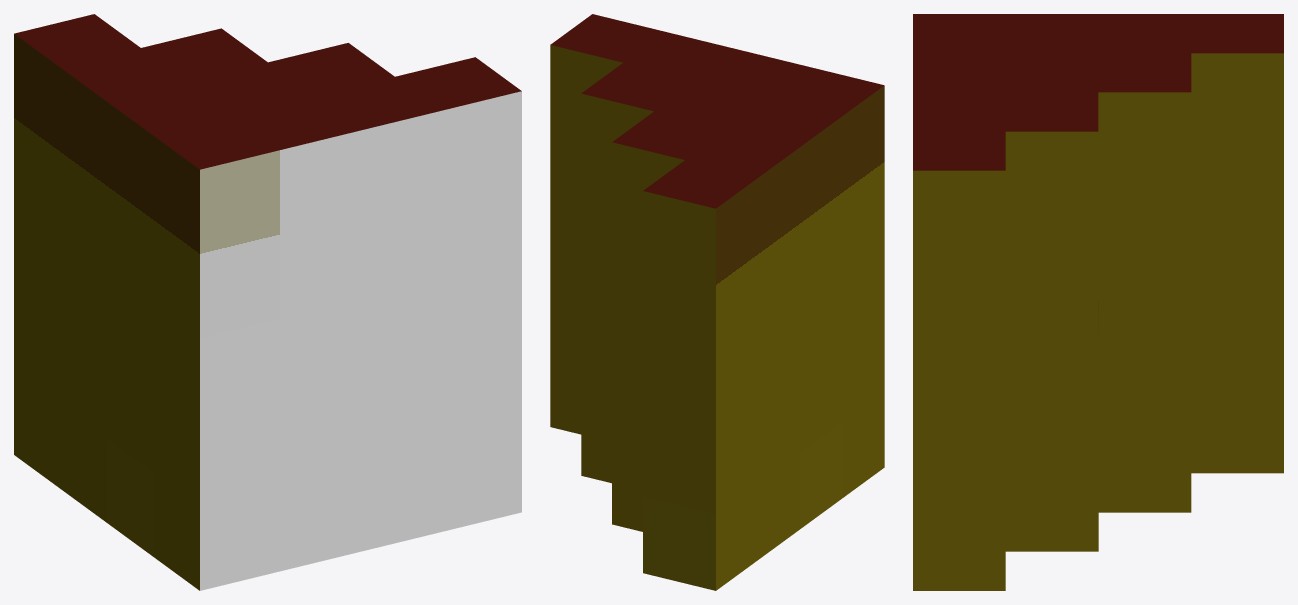
Rendered from block_13.fbx.
3 renders of one model, left to right at view 1: azimuth 30°, elevation 25°; view 2: azimuth 150°, elevation 25°; view 3: azimuth 270°, elevation 25°, orthographic. The views are drawn at different scales.
Visible parts, largest first — view 1: Box; view 2: Box; view 3: Box.
Part boxes in pixels (left/top/right/bottom): Box: left=14, top=14, right=521, bottom=590; Box: left=550, top=14, right=884, bottom=590; Box: left=913, top=14, right=1283, bottom=590.
Bounding box in the file's own units: 4 × 4 × 5.
Materials: 1 (1 with a texture image).
